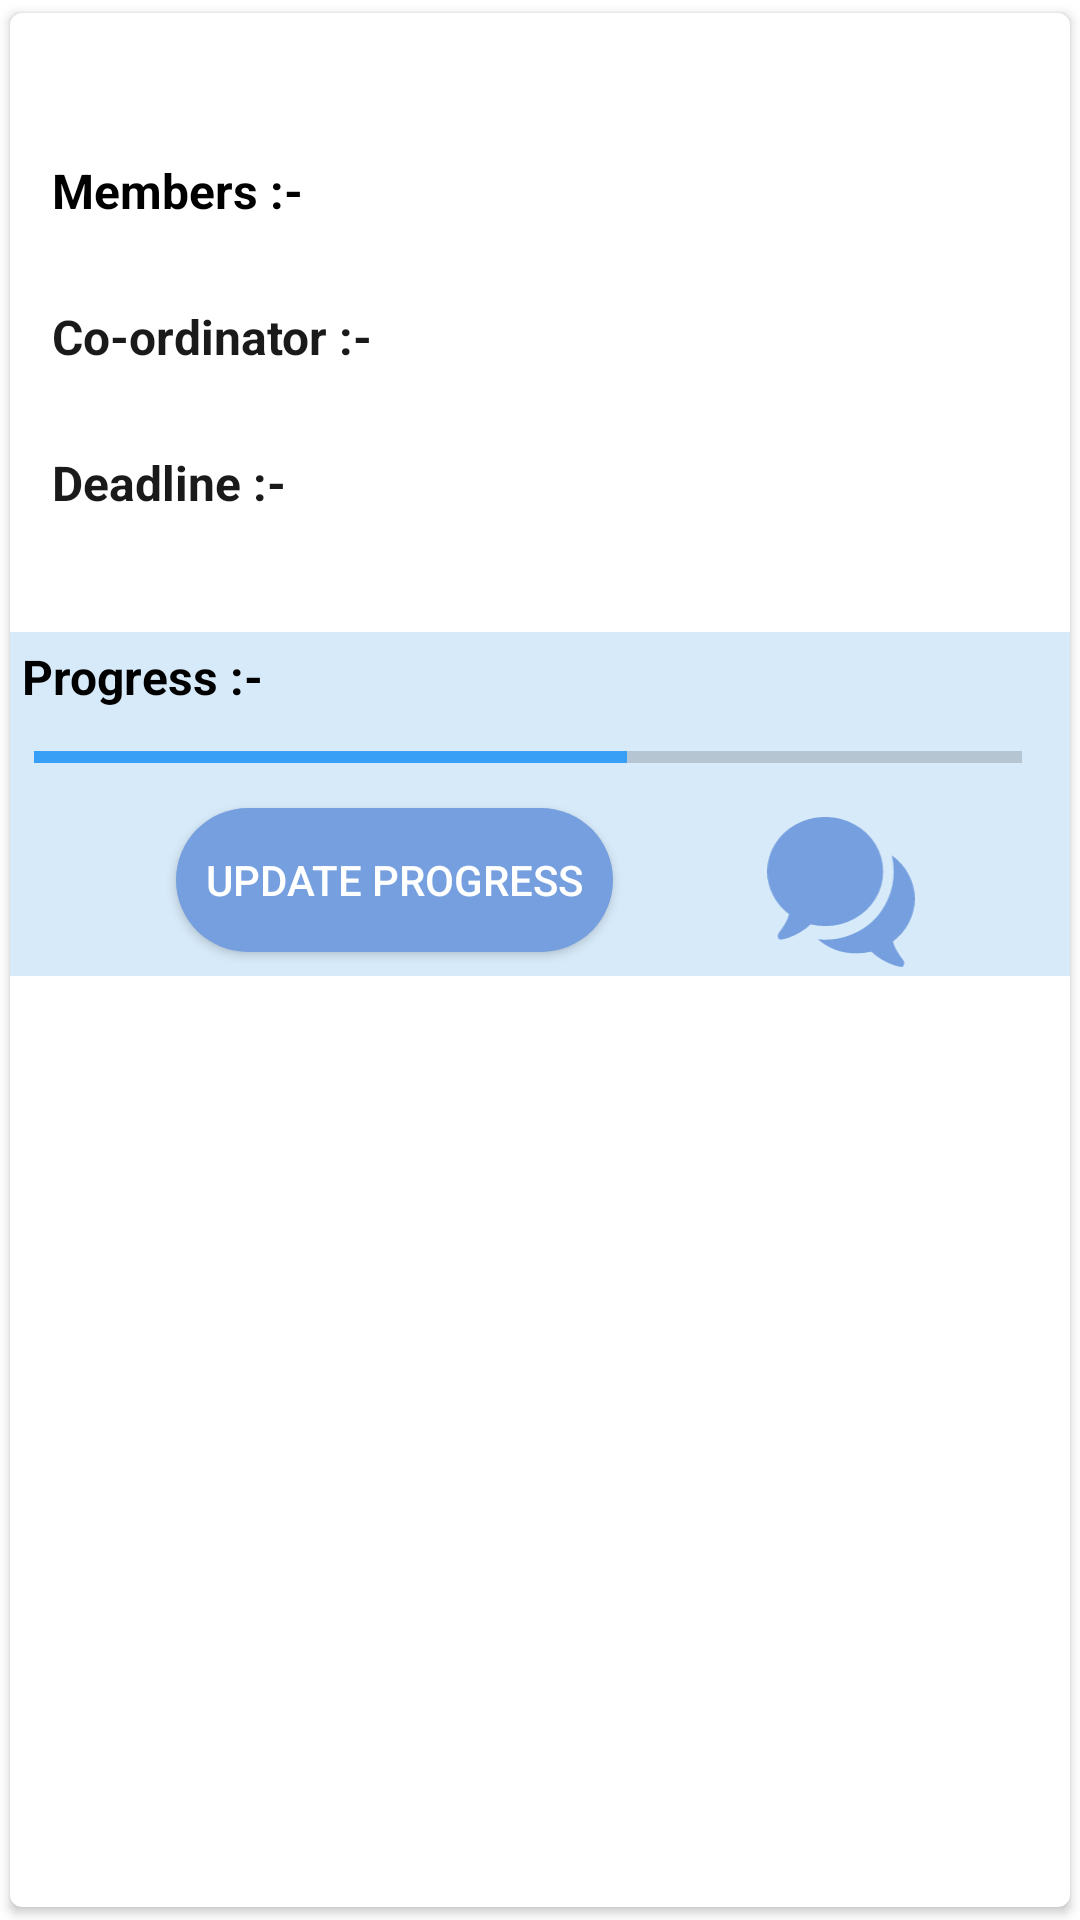

Icon bounding boxes for this 1080 × 1920 phone screenshot, format (x1, y1, x2, y2):
chat: (767, 817, 915, 967)
